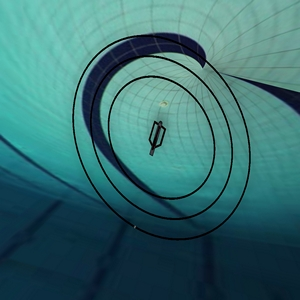circle: (65, 25, 264, 256)
submarine: (137, 115, 182, 160)
